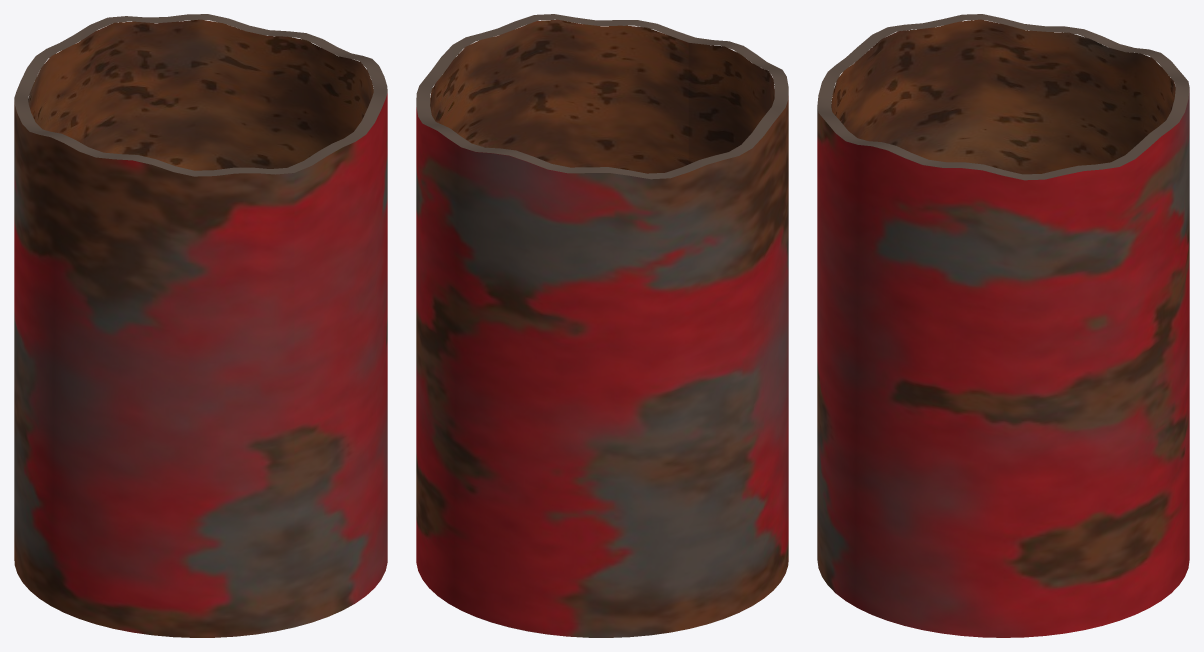
File: SM_Casing_Rouge.glb
3 renders of one model, left to right at view 1: azimuth 30°, elevation 25°; view 2: azimuth 150°, elevation 25°; view 3: azimuth 270°, elevation 25°, orthographic.
Parts seen in each view (by area): view 1: SM_Casing_Rouge; view 2: SM_Casing_Rouge; view 3: SM_Casing_Rouge.
Part boxes in pixels (box(x1,y1,x2,y2)): SM_Casing_Rouge: box(14, 14, 387, 637); SM_Casing_Rouge: box(416, 14, 788, 637); SM_Casing_Rouge: box(817, 14, 1189, 637).
Bounding box in the file's own units: 0.2191 × 0.306 × 0.2191.
4 materials, 2 textured.
